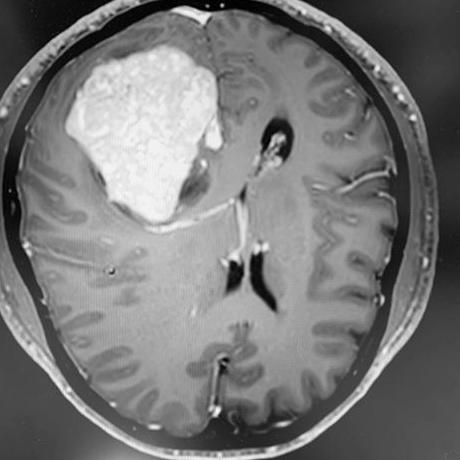Tumour-Meningioma: (56, 34, 234, 240)
